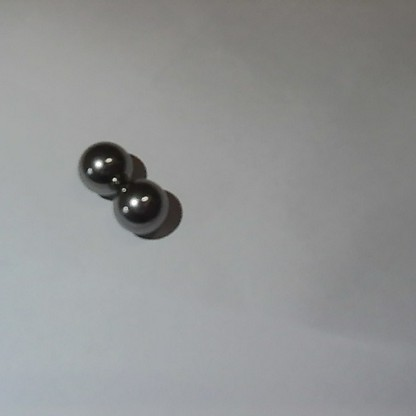ironball: (74, 138, 134, 196), (114, 178, 171, 234)
